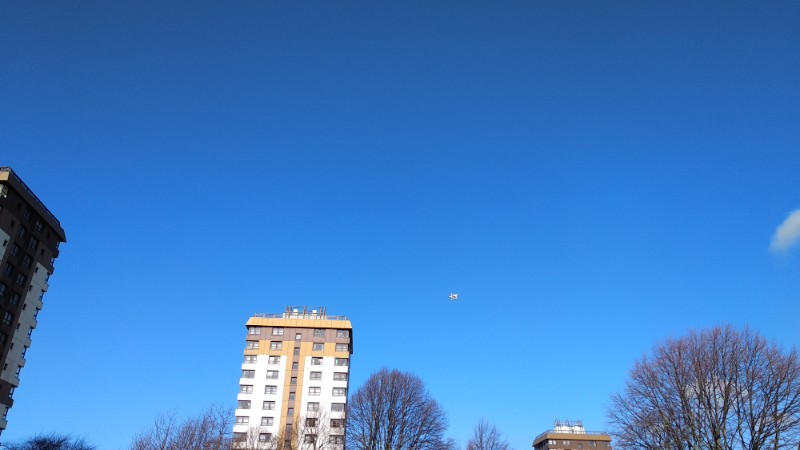drone: (448, 292, 459, 302)
